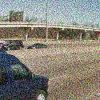cars: (0, 52, 50, 100)
